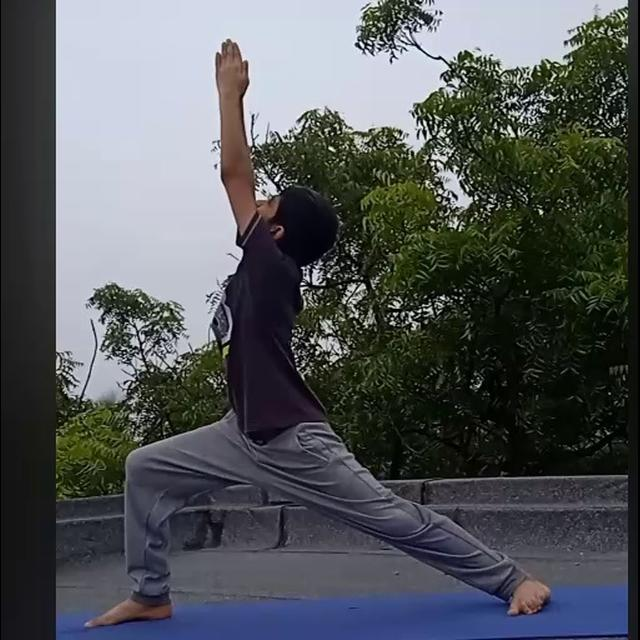Warrior_I: (74, 33, 561, 631)
